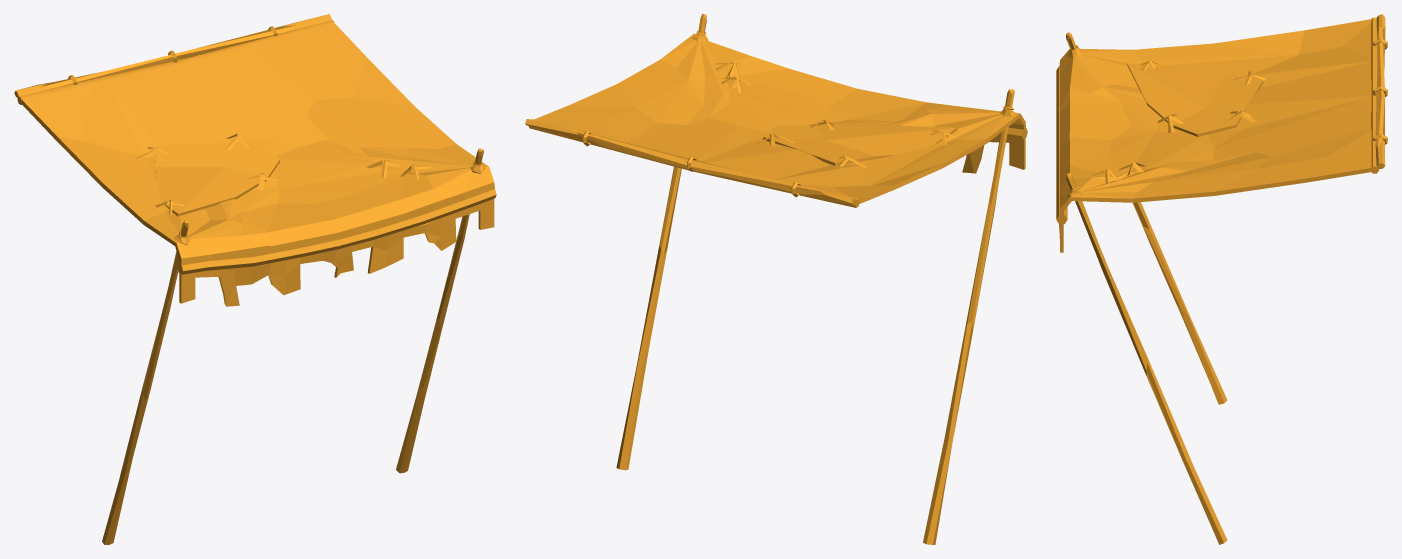
Rendered from SM_Tent_Porch_Narrow_Plain_Repaired_Fantasy.fbx.
The picture shows the model from 3 angles, left to right: view 1: azimuth 30°, elevation 25°; view 2: azimuth 150°, elevation 25°; view 3: azimuth 270°, elevation 25°; orthographic projection. The views are drawn at different scales.
Parts seen in each view (by area): view 1: tent-porch-narrow-plain-repaired-fantasy; view 2: tent-porch-narrow-plain-repaired-fantasy; view 3: tent-porch-narrow-plain-repaired-fantasy.
Boxes of the visible parts, x1=… form: tent-porch-narrow-plain-repaired-fantasy: x1=14, y1=14, x2=496, y2=544; tent-porch-narrow-plain-repaired-fantasy: x1=525, y1=14, x2=1027, y2=544; tent-porch-narrow-plain-repaired-fantasy: x1=1056, y1=14, x2=1387, y2=544.
Bounding box in the file's own units: 2.36 × 2.86 × 2.22.
